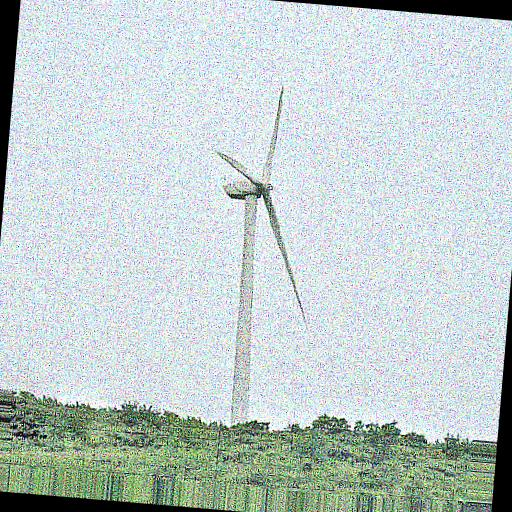wind turbine: (218, 84, 309, 437)
